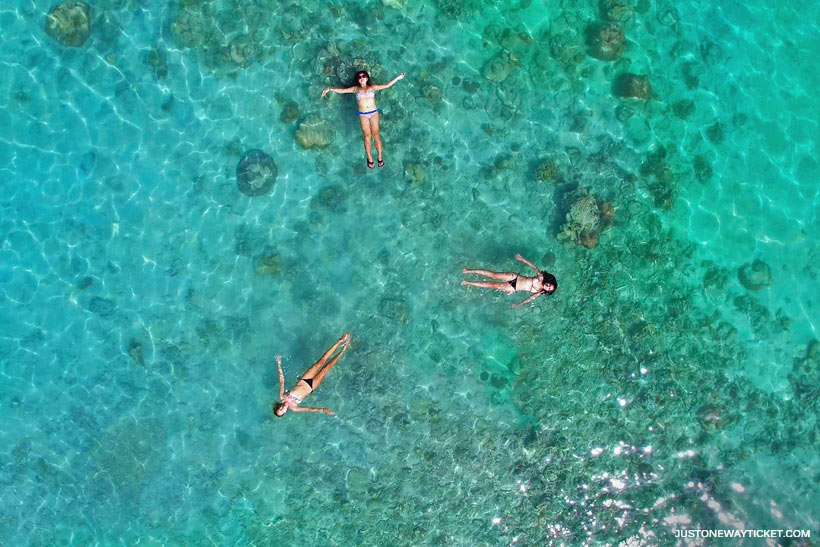people: (319, 70, 409, 171), (271, 330, 355, 418), (460, 251, 559, 309)
